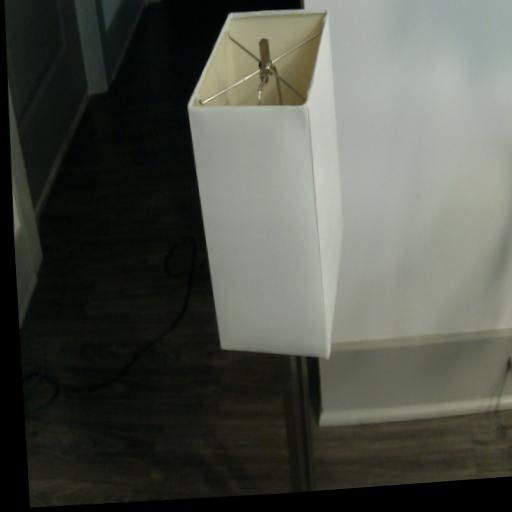lamp: (175, 3, 361, 499)
